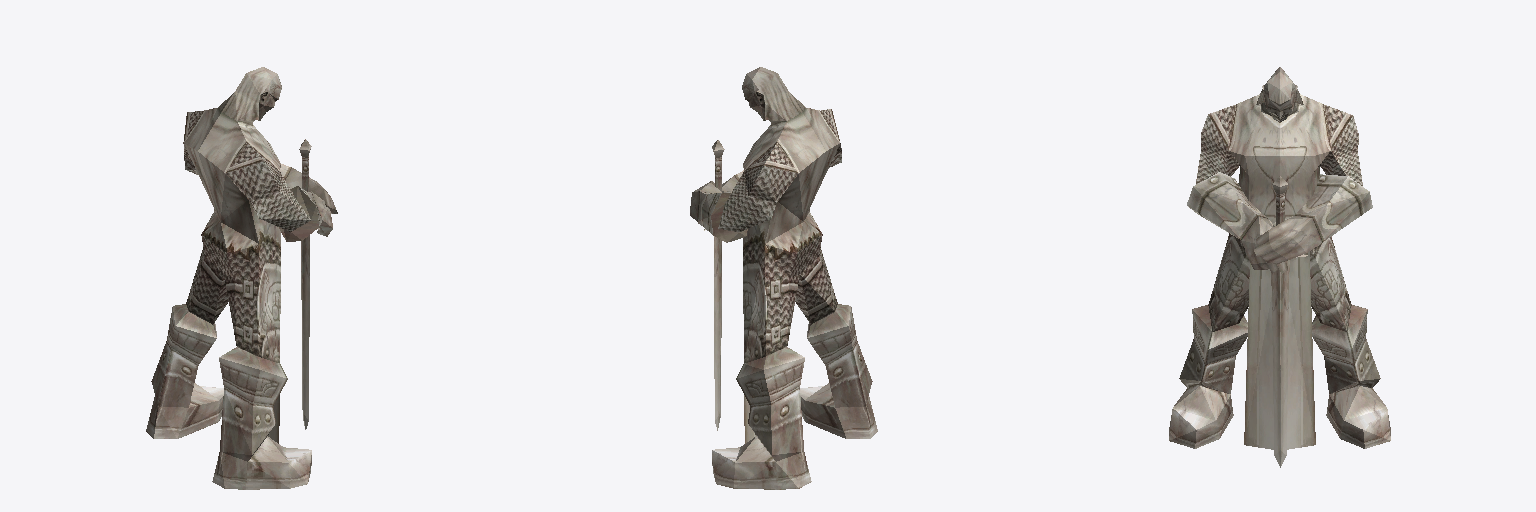
3 views of the same model, side by side, from view 1: azimuth 30°, elevation 25°; view 2: azimuth 150°, elevation 25°; view 3: azimuth 270°, elevation 25° (orthographic).
Visible parts, largest first — view 1: object 1; view 2: object 1; view 3: object 1.
Part boxes in pixels (x1,y1,x2,y2): object 1: (146,67,337,489); object 1: (690,67,877,489); object 1: (1169,67,1390,467).
Size of the model in its own units: 0.8011 by 1.97 by 1.06.
1 materials, 1 textured.